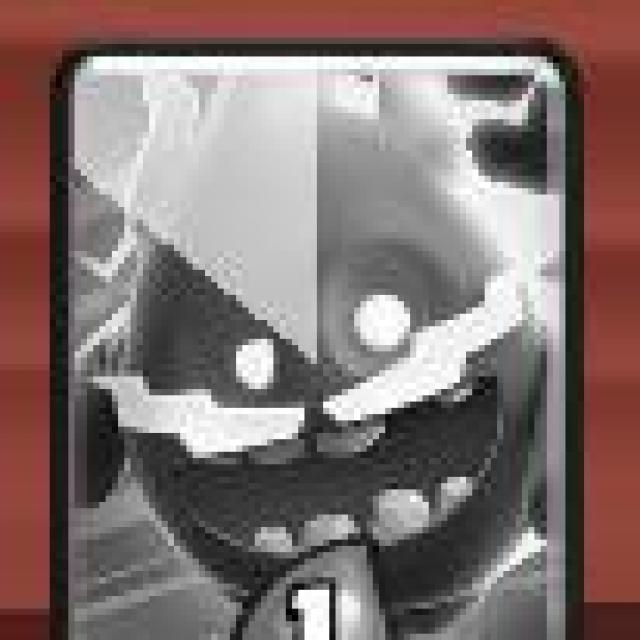Electro_Spirit: (46, 39, 587, 640)
